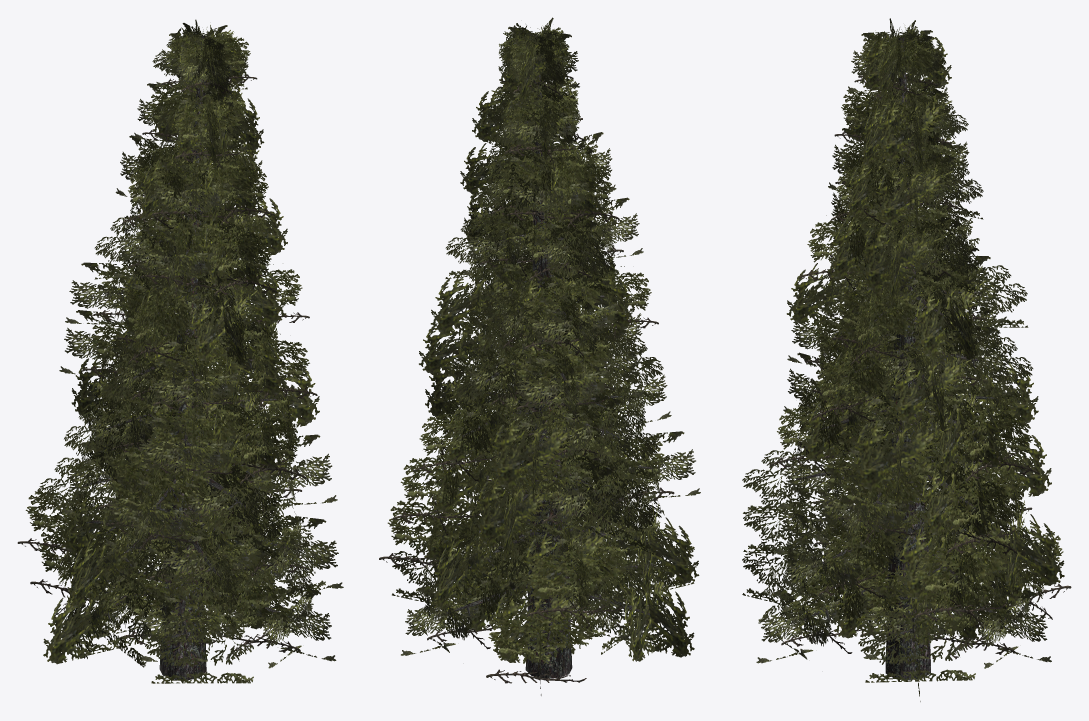
File: conifer_v5_young_01_lod0.glb
3 renders of one model, left to right at view 1: azimuth 30°, elevation 25°; view 2: azimuth 150°, elevation 25°; view 3: azimuth 270°, elevation 25°, orthographic. The views are drawn at different scales.
Visible parts, largest first — view 1: foliage_cards, wood_geometry; view 2: foliage_cards, wood_geometry; view 3: foliage_cards, wood_geometry.
Boxes of the visible parts, x1,y1,x2,y2 form: foliage_cards: (17,19,343,683); wood_geometry: (77,36,290,680); foliage_cards: (379,17,700,695); wood_geometry: (441,35,655,678); foliage_cards: (742,18,1071,701); wood_geometry: (795,37,1007,680).
Bounding box in the file's own units: 3.79 × 7.44 × 3.54.
Materials: 2 (2 with a texture image).
